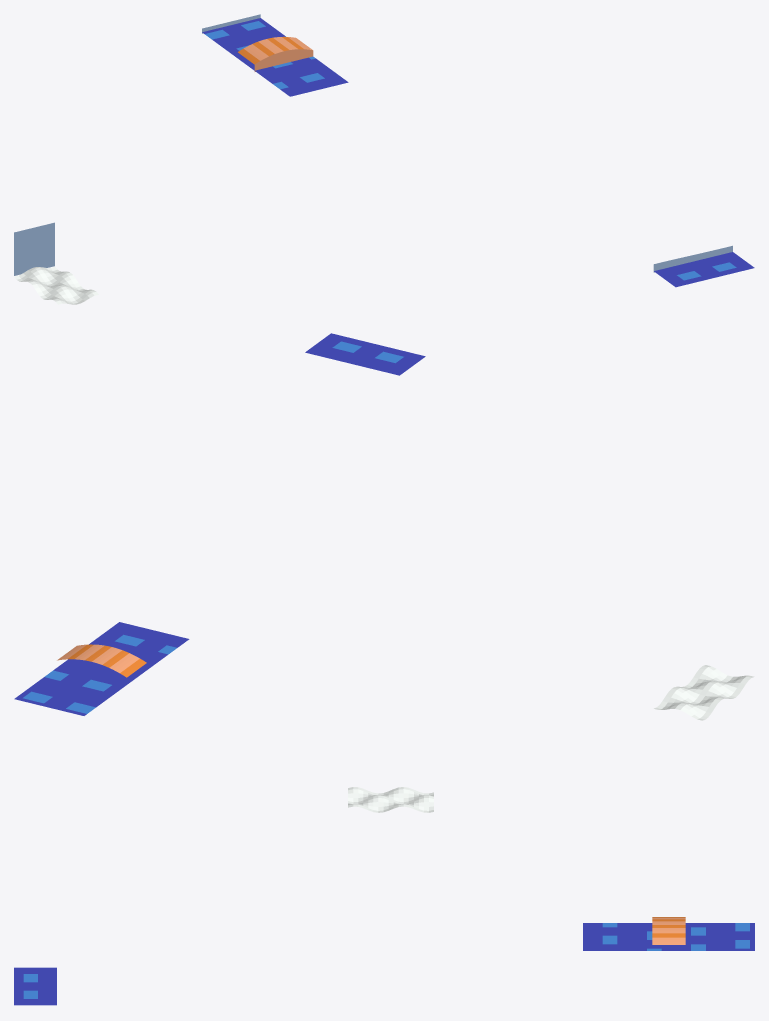
The model's file is water.glb.
The picture shows the model from 3 angles, top to bottom: view 1: azimuth 30°, elevation 25°; view 2: azimuth 150°, elevation 25°; view 3: azimuth 270°, elevation 25°; orthographic projection. The views are drawn at different scales.
Visible parts, largest first — view 1: Water3_0, GapFloor5_0, Water9_0, GapWall5_0, Deck3, DeckSide3, Bank9_0; view 2: Water3_0, GapFloor5_0, Water9_0, Deck3; view 3: Water3_0, GapFloor5_0, Water9_0, Deck3.
Part boxes in pixels (box(x1,y1,x2,y2)): Water3_0: box(202, 18, 348, 96); GapFloor5_0: box(14, 267, 98, 304); Water9_0: box(654, 252, 754, 287); GapWall5_0: box(14, 222, 54, 275); Deck3: box(238, 36, 312, 64); DeckSide3: box(254, 49, 313, 71); Bank9_0: box(653, 245, 732, 272); Water3_0: box(14, 622, 189, 715); GapFloor5_0: box(654, 665, 754, 720); Water9_0: box(305, 333, 425, 375); Deck3: box(57, 644, 146, 677); Water3_0: box(583, 923, 754, 950); GapFloor5_0: box(348, 787, 433, 812); Water9_0: box(14, 967, 56, 1005); Deck3: box(652, 917, 685, 944).
Size of the model in its own units: 17.9 by 1.68 by 22.4.
